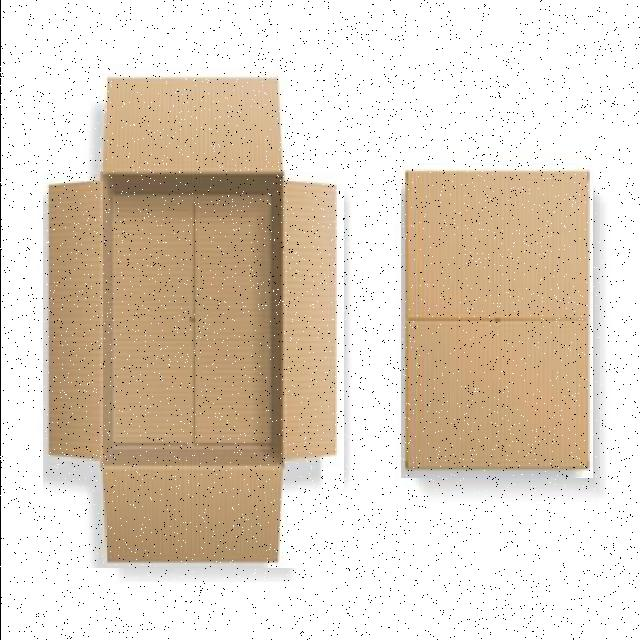defect: (42, 75, 343, 568), (400, 164, 592, 478)
